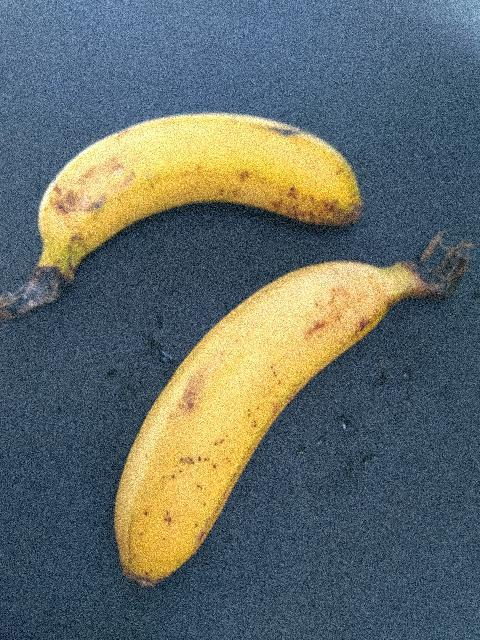ripe: (72, 255, 421, 581), (20, 84, 364, 269)
